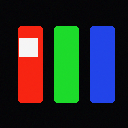1 square: (19, 38, 37, 56)
